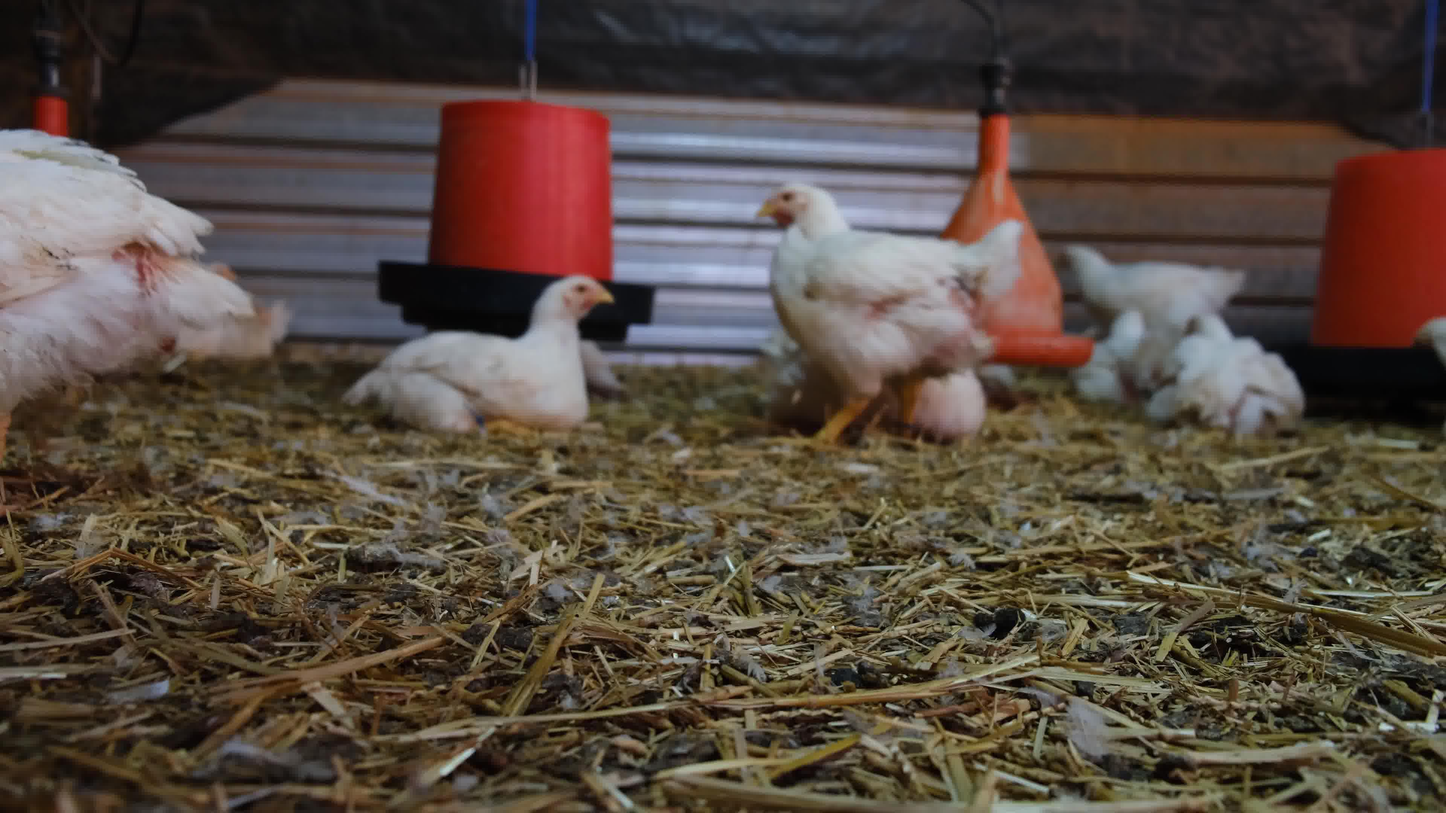AbNormal: (352, 258, 629, 446), (1143, 303, 1320, 438)
Normal: (2, 98, 288, 470), (729, 167, 1049, 459), (1056, 228, 1275, 344)
